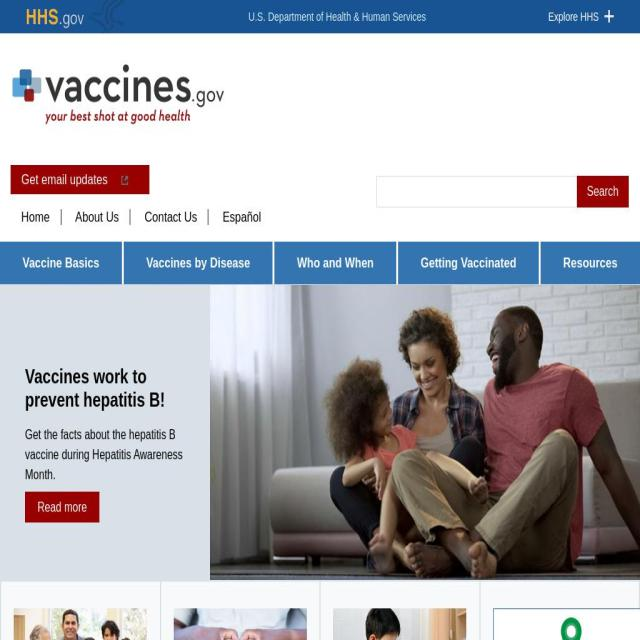button: (12, 64, 640, 124), (123, 242, 273, 285), (398, 242, 540, 285), (0, 242, 122, 285), (274, 242, 396, 285), (540, 241, 640, 285), (14, 608, 148, 640), (173, 608, 307, 640), (333, 608, 467, 640), (11, 165, 150, 195), (26, 0, 126, 33), (25, 491, 99, 522)
field: (376, 175, 576, 207), (576, 175, 629, 207)
heading: (25, 364, 185, 412)
iframe: (492, 608, 640, 640)
image: (209, 285, 640, 581), (12, 64, 224, 124), (1, 17, 640, 25), (14, 608, 148, 640), (173, 608, 307, 640), (333, 608, 467, 640), (604, 10, 614, 22), (121, 176, 128, 186)
link: (144, 209, 198, 226), (75, 209, 119, 226), (222, 209, 262, 226), (21, 209, 50, 226)
text: (25, 424, 185, 485), (0, 0, 640, 13), (248, 0, 426, 23), (21, 172, 108, 188), (548, 10, 602, 23)
